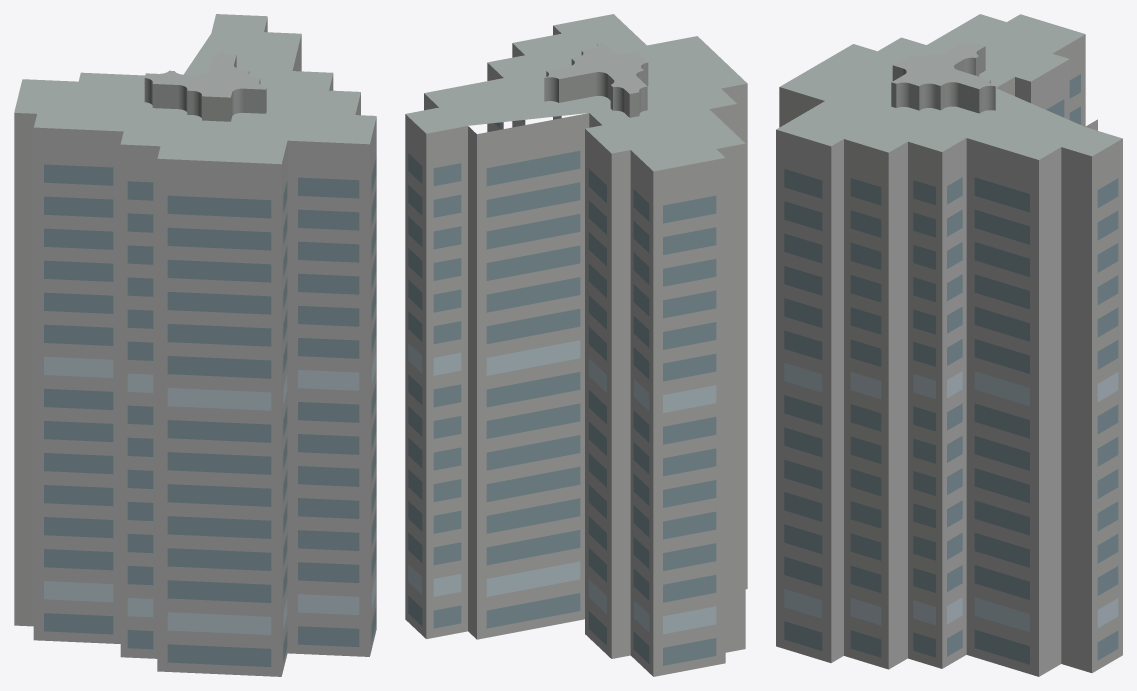
File: fallback-mapo-raemian-prugio-204.glb
3 renders of one model, left to right at view 1: azimuth 30°, elevation 25°; view 2: azimuth 150°, elevation 25°; view 3: azimuth 270°, elevation 25°, orthographic. The views are drawn at different scales.
Parts seen in each view (by area): view 1: fallback-mapo-raemian-prugio-204; view 2: fallback-mapo-raemian-prugio-204; view 3: fallback-mapo-raemian-prugio-204.
Part boxes in pixels (x1,y1,x2,y2): fallback-mapo-raemian-prugio-204: (14, 14, 376, 676); fallback-mapo-raemian-prugio-204: (405, 14, 747, 676); fallback-mapo-raemian-prugio-204: (776, 14, 1122, 676).
Bounding box in the file's own units: 27.21 × 47 × 27.28.
